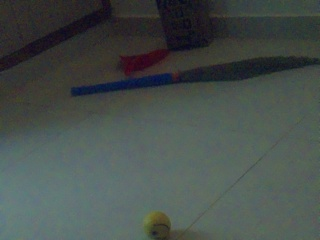ball: (143, 211, 170, 239)
